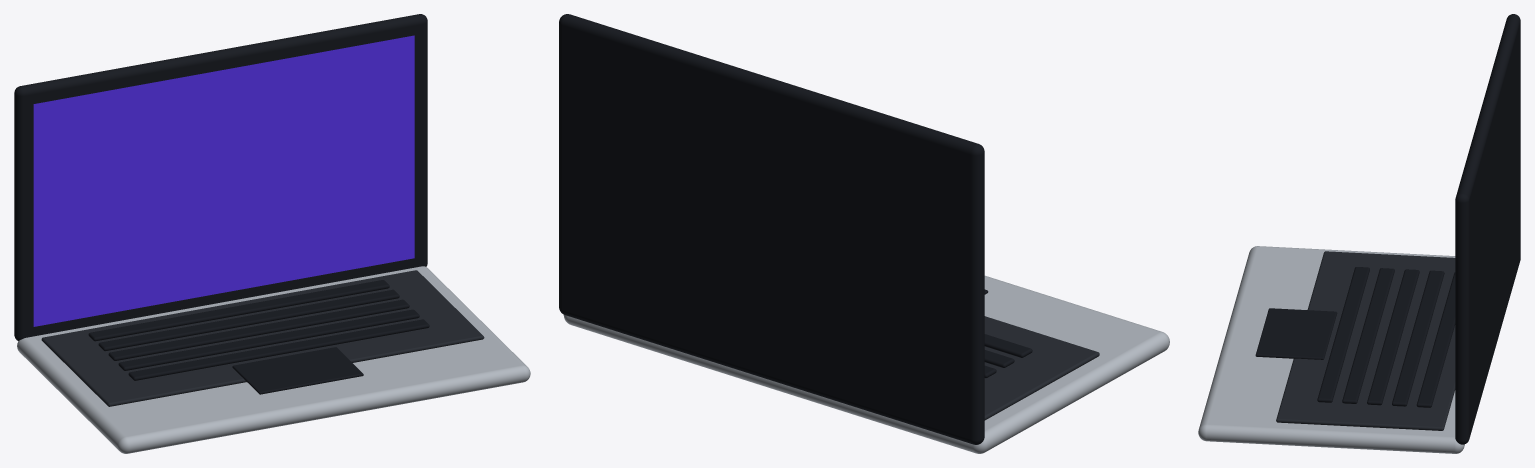
The model's file is device-laptop-v1.glb.
3 views of the same model, side by side, from view 1: azimuth 30°, elevation 25°; view 2: azimuth 150°, elevation 25°; view 3: azimuth 270°, elevation 25° (orthographic). The views are drawn at different scales.
Visible parts, largest first — view 1: LaptopDisplay, LaptopBase, LaptopDisplayBack, KeyboardDeck, Trackpad, KeyRow_1, KeyRow_2, KeyRow_3, KeyRow_0, KeyRow_4; view 2: LaptopDisplayBack, LaptopBase, KeyboardDeck; view 3: LaptopDisplayBack, LaptopBase, KeyboardDeck, Trackpad, KeyRow_2, KeyRow_1, KeyRow_3, KeyRow_4, KeyRow_0.
Boxes of the visible parts, x1,y1,x2,y2 form: LaptopDisplay: (33,35,414,326); LaptopBase: (17,266,530,453); LaptopDisplayBack: (14,14,427,340); KeyboardDeck: (41,270,484,406); Trackpad: (232,347,363,394); KeyRow_1: (98,289,399,351); KeyRow_2: (108,299,409,360); KeyRow_3: (118,309,419,370); KeyRow_0: (88,280,389,341); KeyRow_4: (128,319,429,380); LaptopDisplayBack: (559,14,984,444); LaptopBase: (563,275,1169,453); KeyboardDeck: (984,316,1099,420); LaptopDisplayBack: (1455,14,1520,444); LaptopBase: (1198,246,1464,453); KeyboardDeck: (1276,251,1455,430); Trackpad: (1255,308,1337,359); KeyRow_2: (1367,269,1419,405); KeyRow_1: (1392,270,1444,406); KeyRow_3: (1342,268,1394,403); KeyRow_4: (1317,267,1369,402); KeyRow_0: (1416,272,1455,407).
Bounding box in the file's own units: 3.93 × 2.41 × 2.71.
